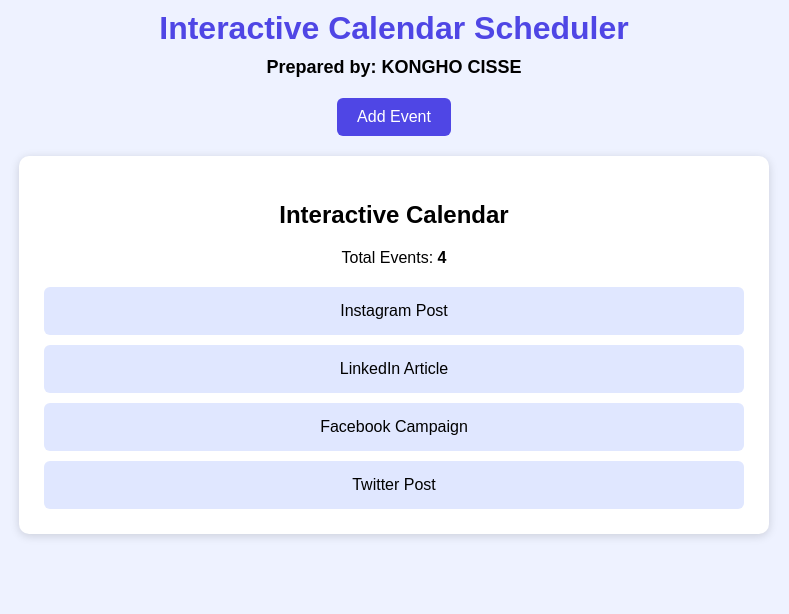
Test: Interactive Calendar › adds a new event
Step 1. Click the button "Add Event" → x=394, y=117, box [337,98,451,136]
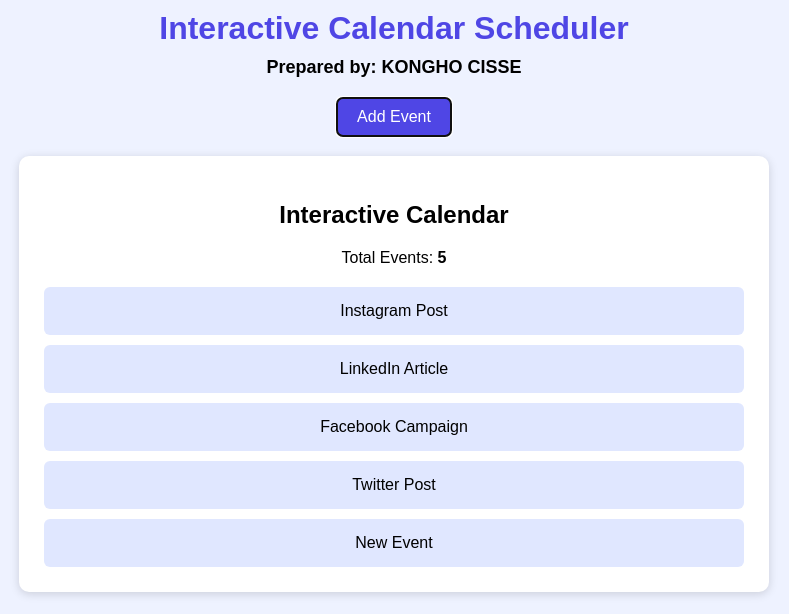
Now the text "New Event" is shown, box [44,519,744,567]
